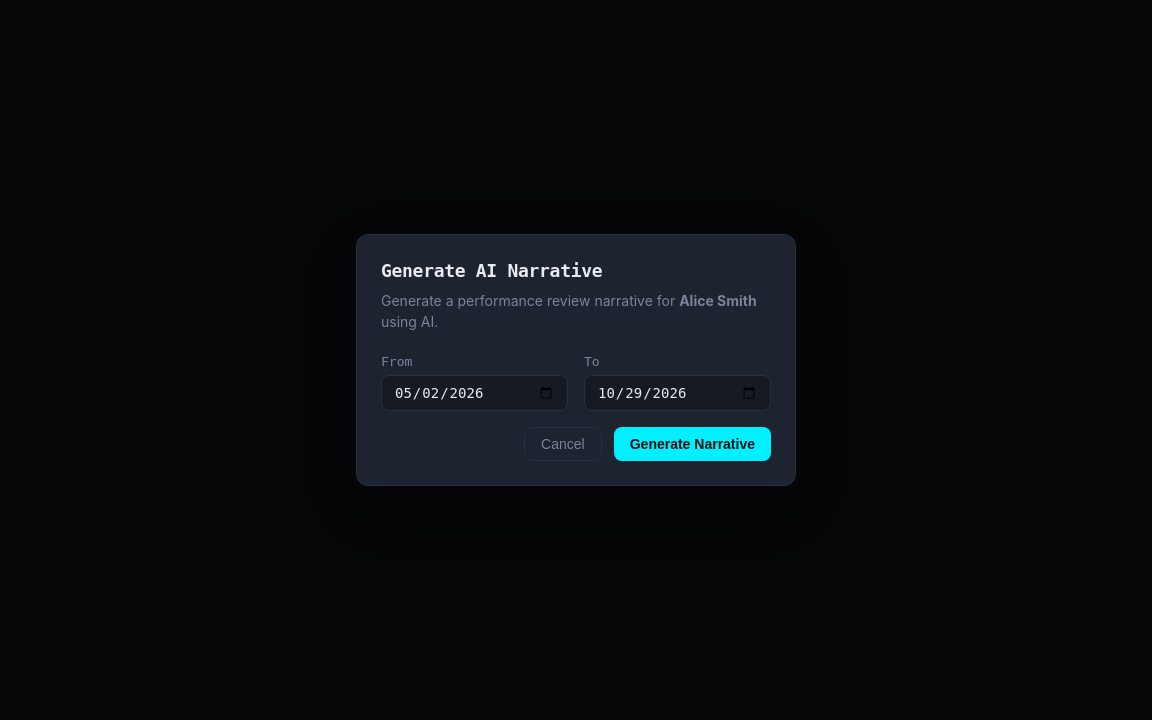
Test: AiNarrativeModal › should show validation error when dateTo is before dateFrom
This screenshot has width=1152, height=720.
Step 1. Type "2026-06-01" into the date field with test id "narrative-date-from" → (474, 393), box [381,375,568,411]
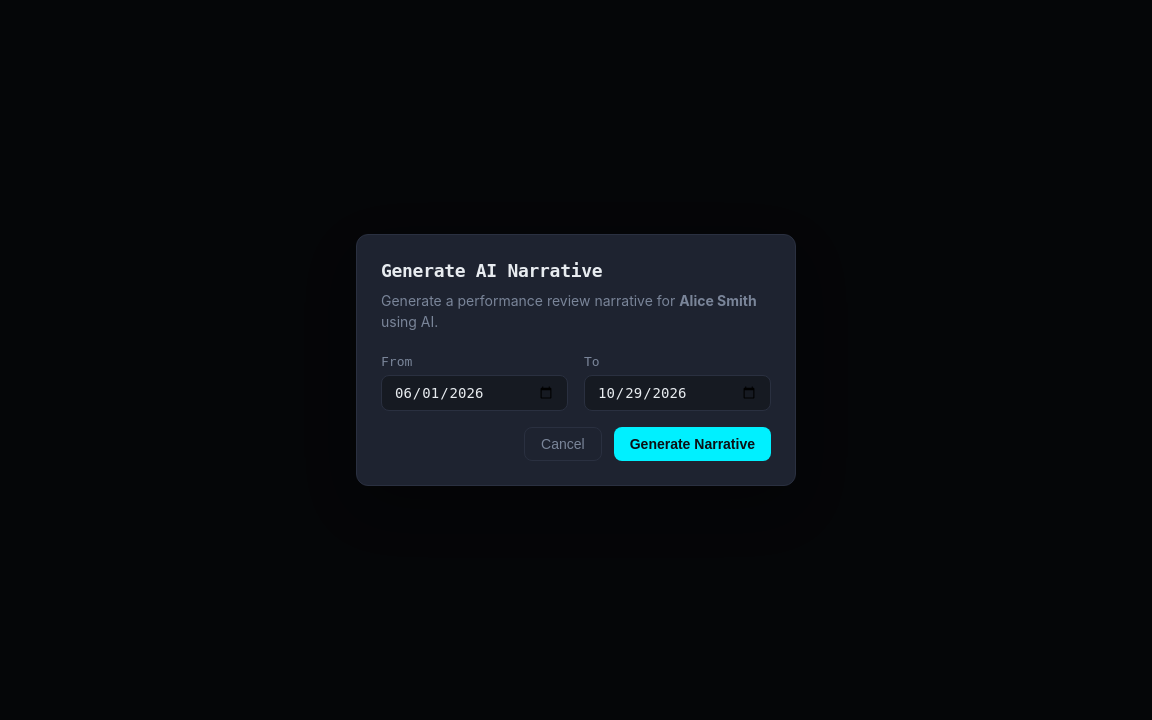
Step 2. Type "2026-01-01" into the date field with test id "narrative-date-to" → (678, 393), box [584,375,771,411]
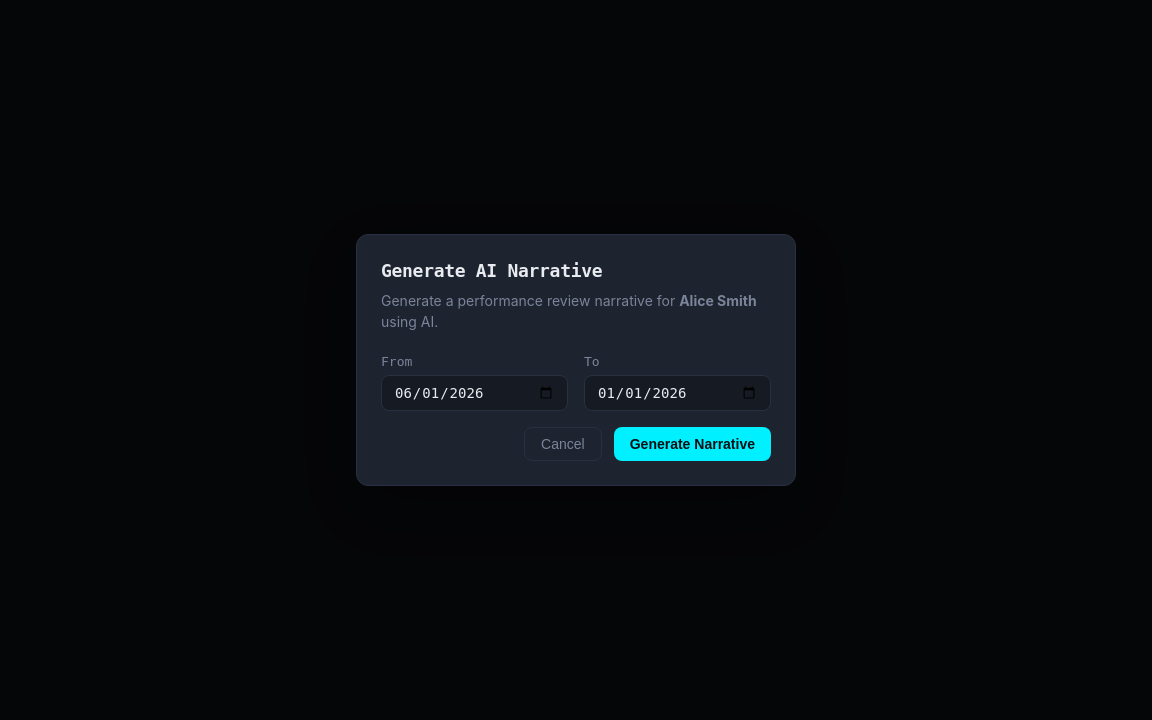
Step 3. Click the button with test id "ai-narrative-generate" → (692, 444), box [614,427,771,461]
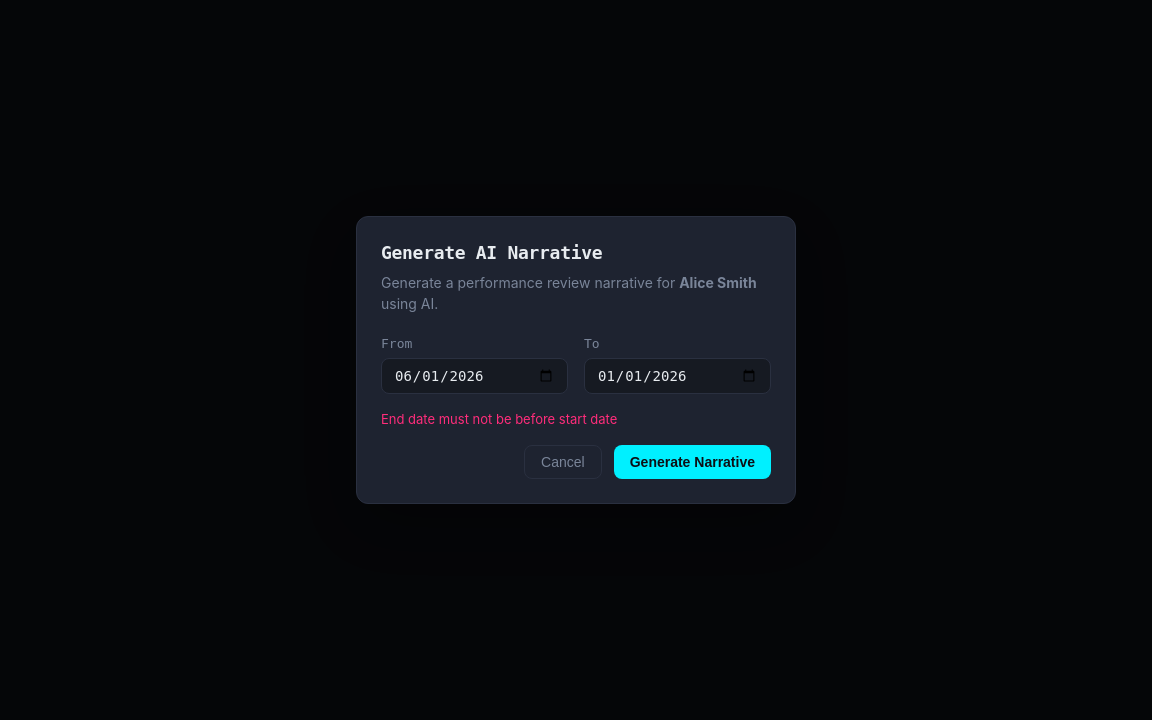
Expected: the text with test id "ai-narrative-validation-error" reads "End date must not be before start date", [381,411,617,427]
